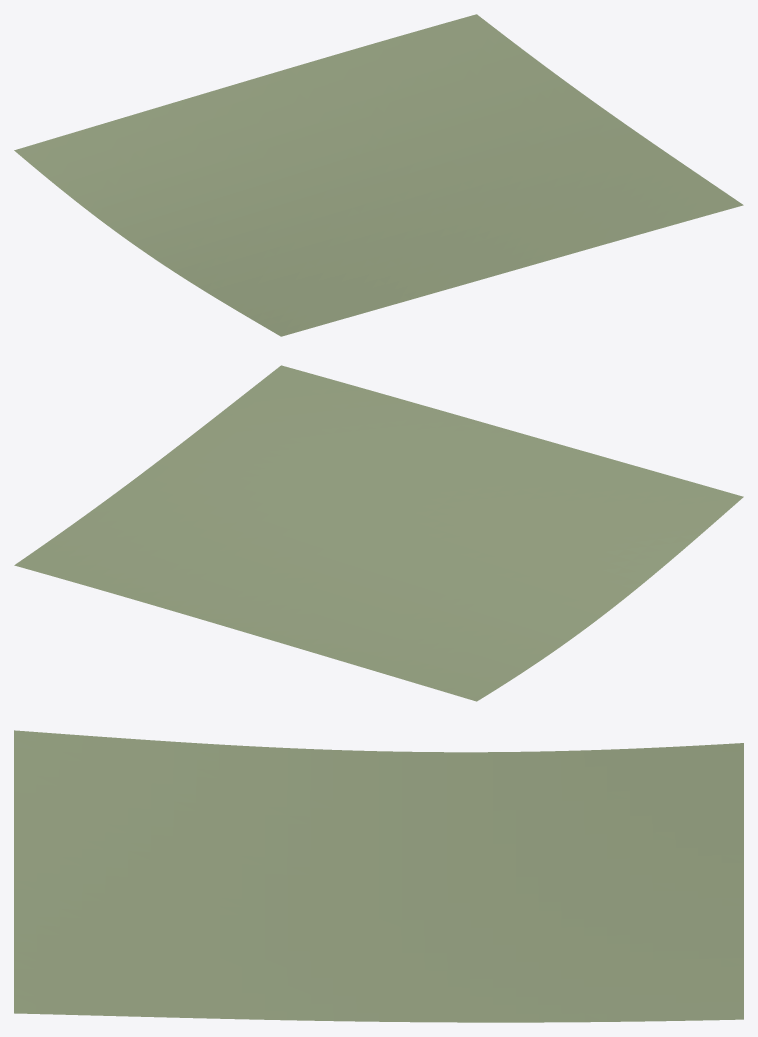
File: desert-26-5.glb
The picture shows the model from 3 angles, top to bottom: view 1: azimuth 30°, elevation 25°; view 2: azimuth 150°, elevation 25°; view 3: azimuth 270°, elevation 25°; orthographic projection. The views are drawn at different scales.
Parts seen in each view (by area): view 1: desert-26-5; view 2: desert-26-5; view 3: desert-26-5.
Boxes of the visible parts, x1,y1,x2,y2 form: desert-26-5: (14, 14, 743, 336); desert-26-5: (14, 365, 743, 701); desert-26-5: (14, 730, 743, 1022).
Size of the model in its own units: 512 by 36.57 by 512.
